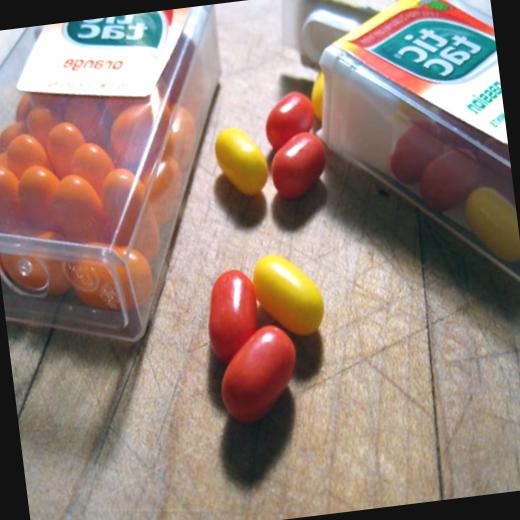Grape: (68, 230, 155, 318), (46, 162, 115, 244), (104, 96, 174, 171), (104, 167, 156, 251), (19, 164, 70, 244), (44, 112, 91, 186), (9, 234, 66, 294), (68, 95, 114, 154), (79, 140, 119, 202), (2, 131, 48, 172), (0, 161, 21, 218), (0, 120, 29, 148)
